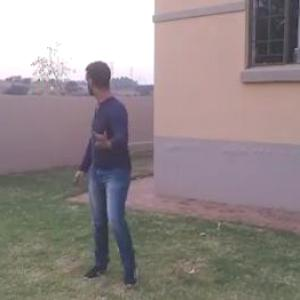takeoff-hand: (91, 122, 114, 152)
